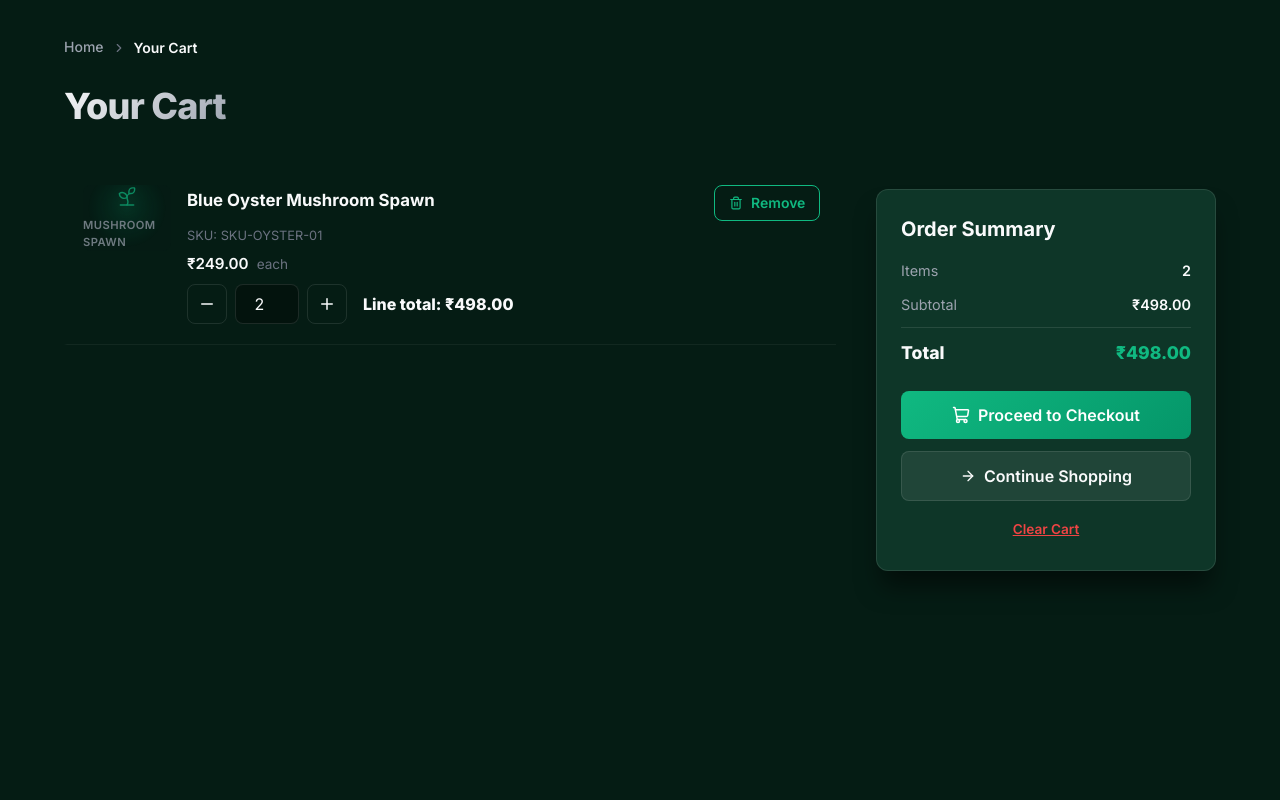
Scenario: CartPage (FD-11) › removes an item through the backend and transitions to the empty state
Expected: the element with test id "cart-item" is shown, [64, 165, 836, 345]
Click the button with aria-label "Remove Blue Oyster Mushroom Spawn from cart": x=767, y=203 [714, 185, 820, 221]
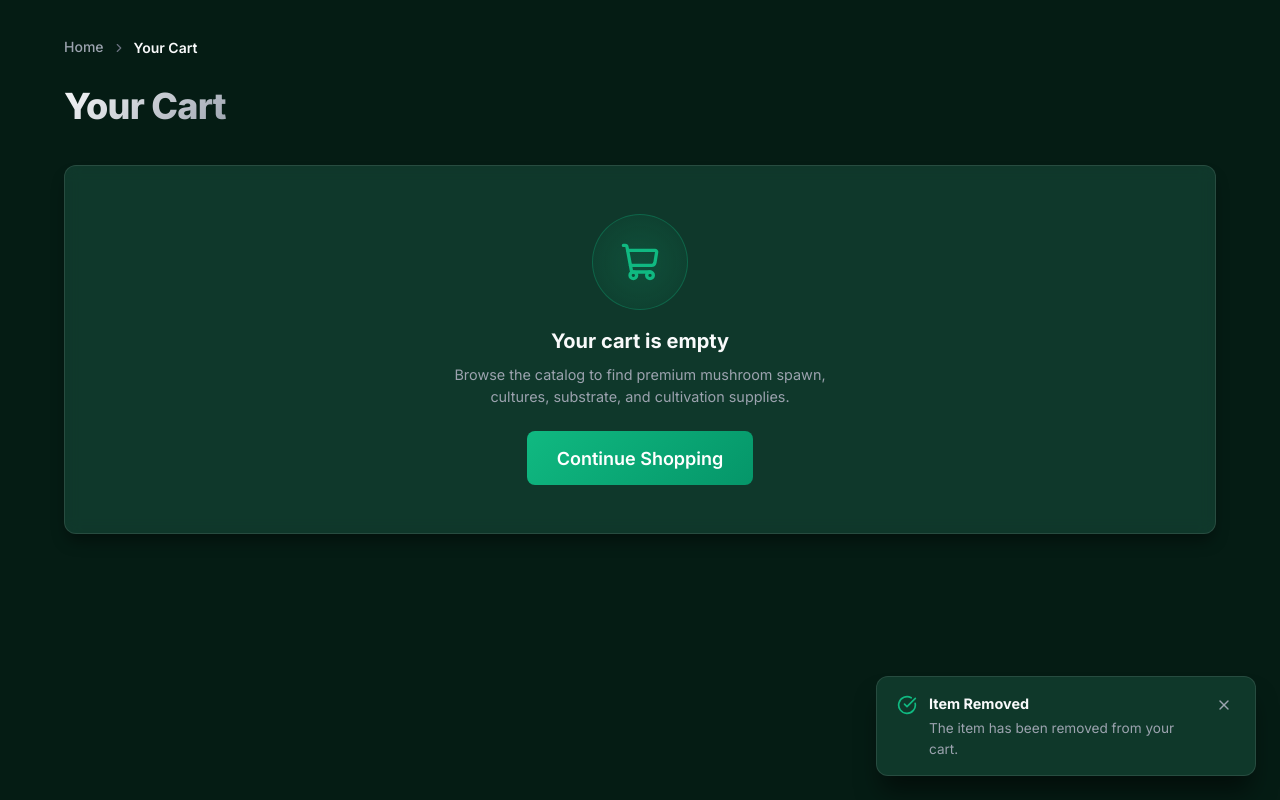
Result: the element with test id "cart-empty" is shown at [64, 165, 1216, 534]
